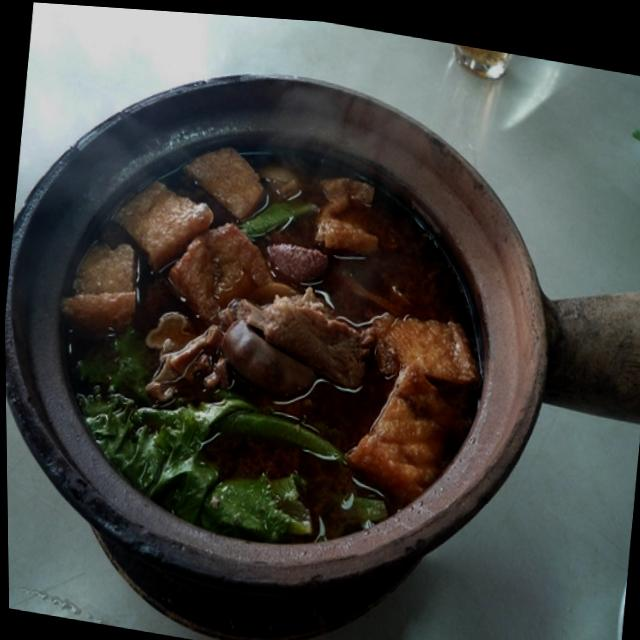汤锅炖物: (0, 26, 593, 640)
